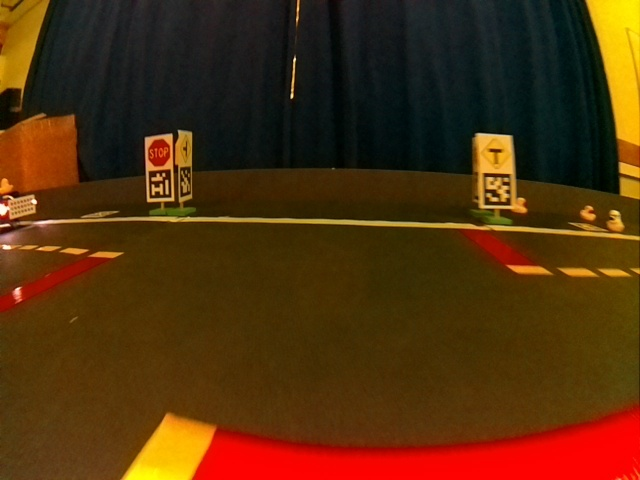Duckie: (607, 210, 622, 230), (581, 206, 596, 220), (516, 199, 528, 213), (2, 179, 13, 192)
Duckiebot: (0, 196, 36, 229)
Intersection sign: (481, 139, 511, 168), (180, 137, 191, 163)
QR code: (483, 175, 513, 205), (148, 169, 171, 199), (179, 169, 191, 198), (81, 210, 116, 218)
Stop sign: (148, 138, 171, 163)
